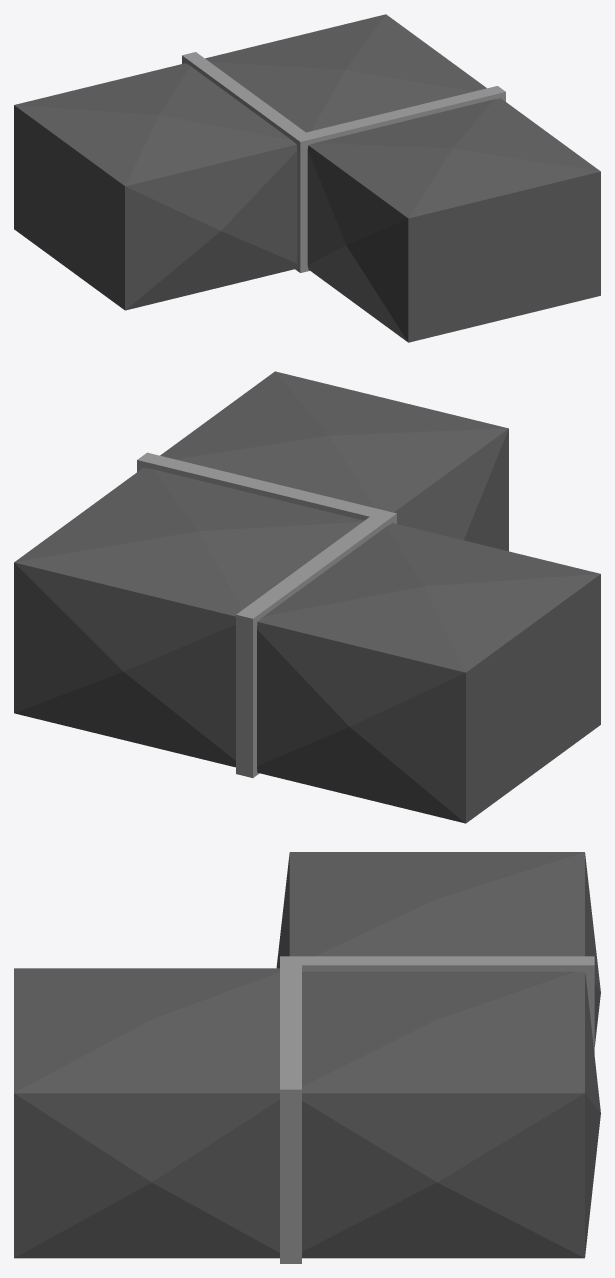
Rendered from vents_A_bend90.FBX.
3 views of the same model, one above another, from view 1: azimuth 30°, elevation 25°; view 2: azimuth 150°, elevation 25°; view 3: azimuth 270°, elevation 25° (orthographic). The views are drawn at different scales.
Parts seen in each view (by area): view 1: vents_A_bend90; view 2: vents_A_bend90; view 3: vents_A_bend90.
Boxes of the visible parts, left/top/right/bottom form: vents_A_bend90: left=14, top=14, right=600, bottom=342; vents_A_bend90: left=14, top=371, right=600, bottom=823; vents_A_bend90: left=14, top=852, right=600, bottom=1263.
Size of the model in its own units: 54.6 by 19.27 by 54.63.
